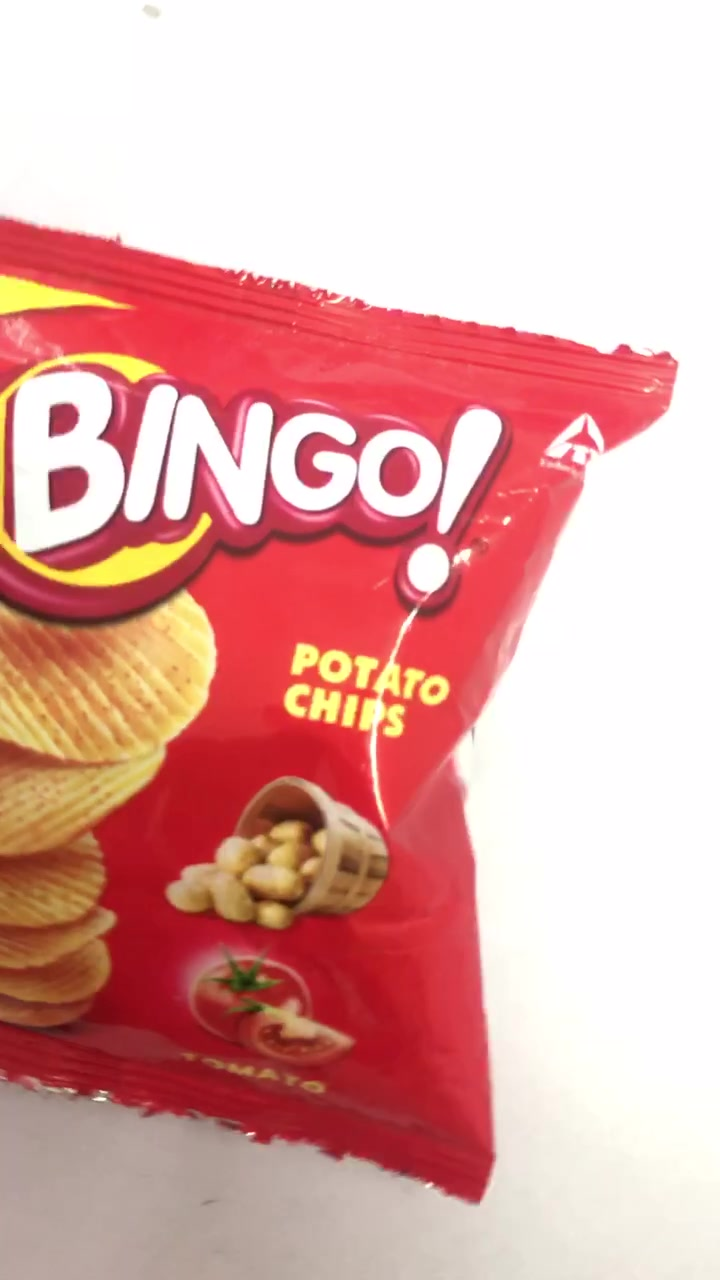Bingo: (2, 214, 674, 1202)
